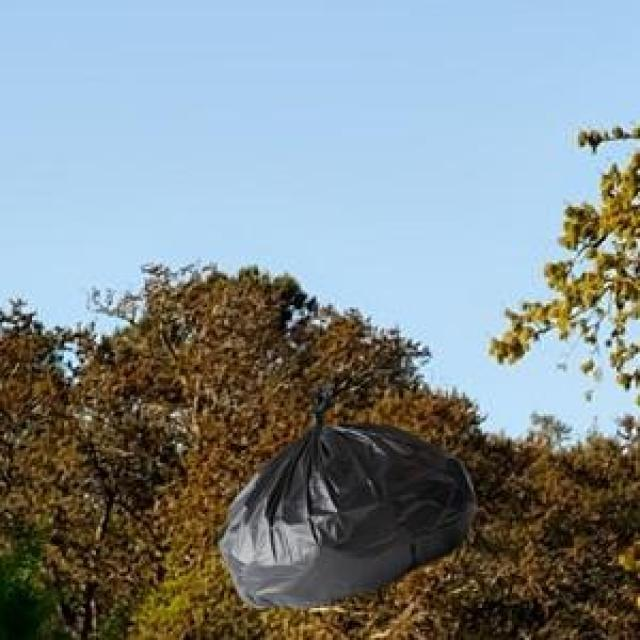waste: (219, 384, 476, 608)
